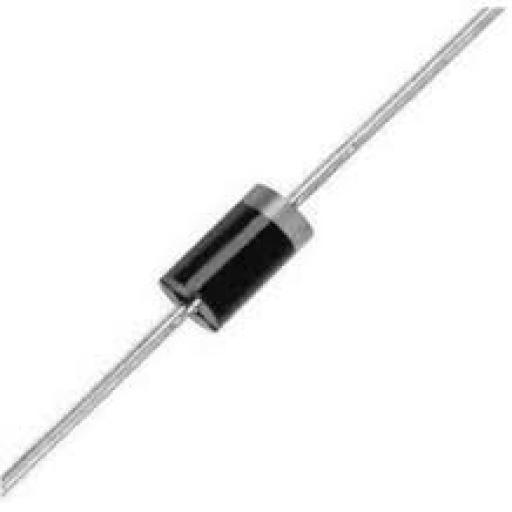DIODE: (0, 0, 505, 499)
